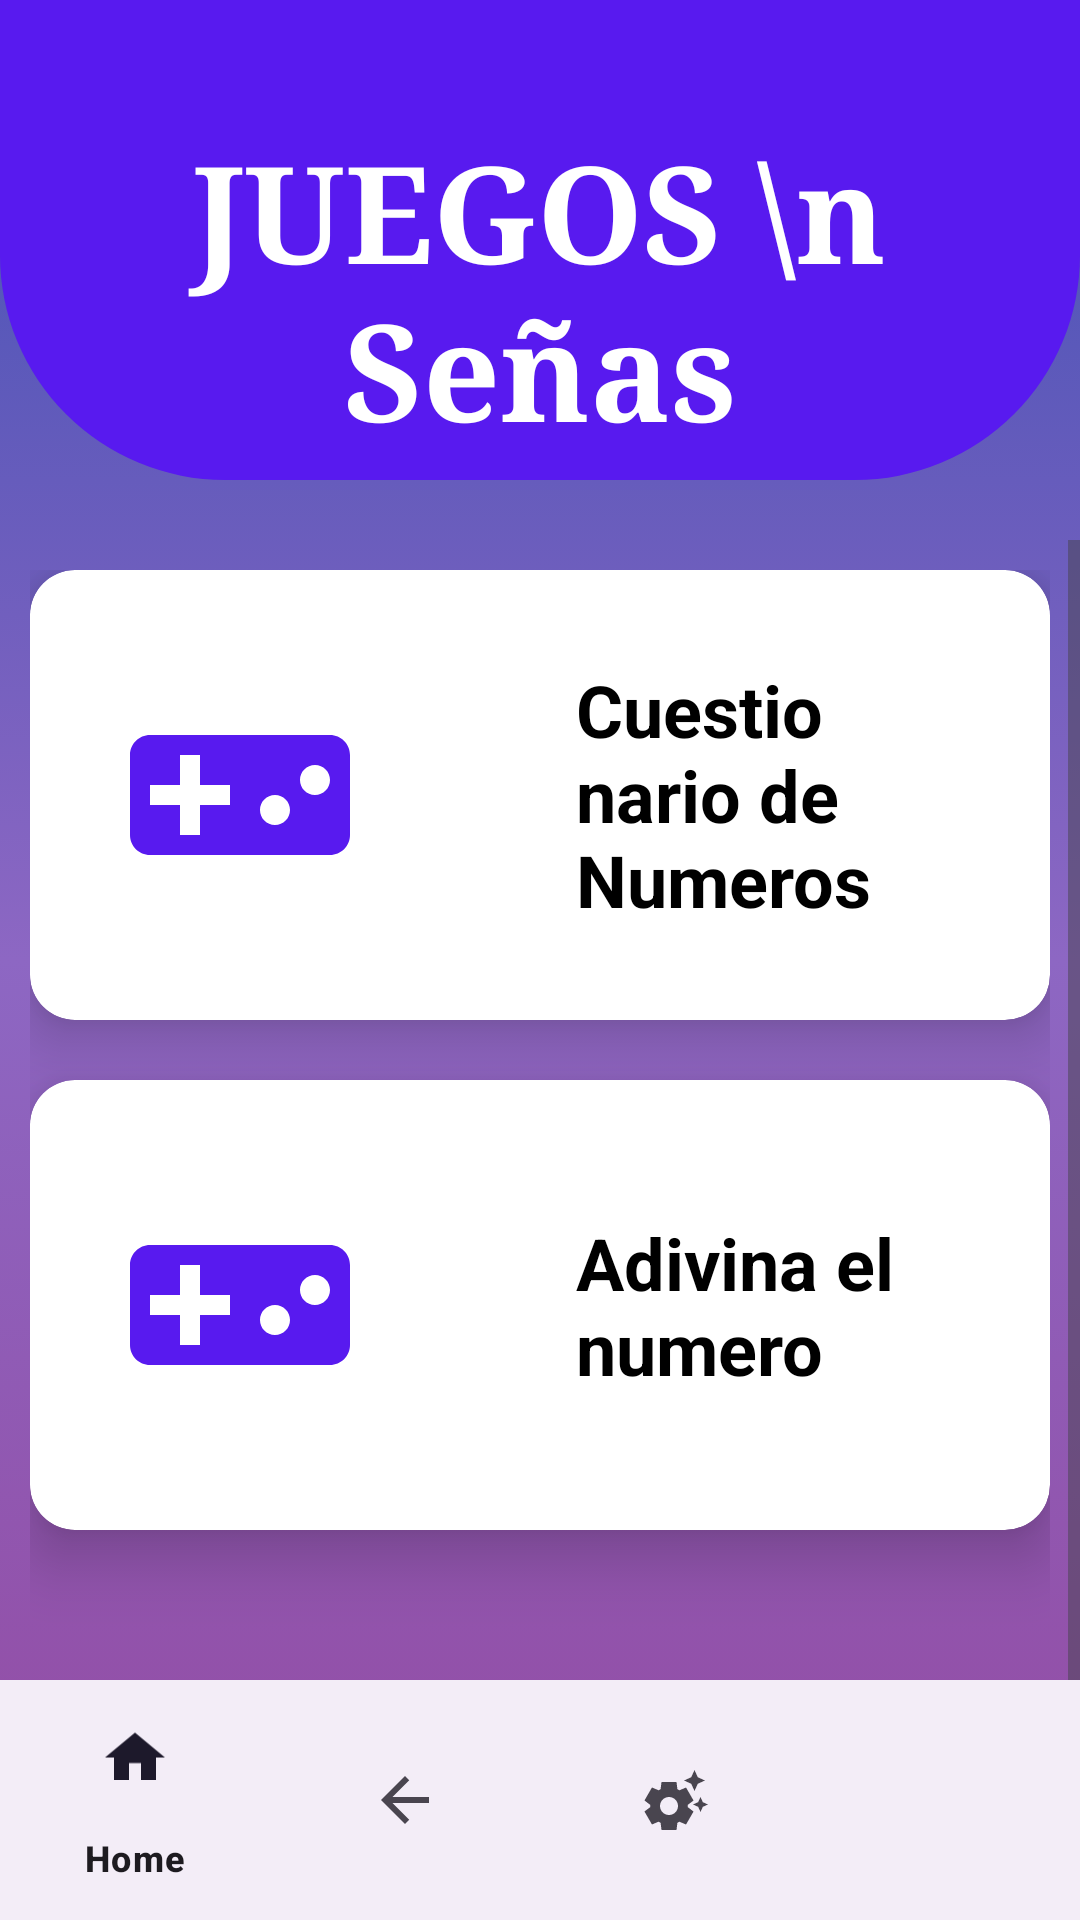

Icons on this 1080x1920 Android screen, each with its box as bbox=[x1, y1, x2, y2]:
games: bbox=[130, 735, 350, 855], bbox=[130, 1245, 350, 1365]
